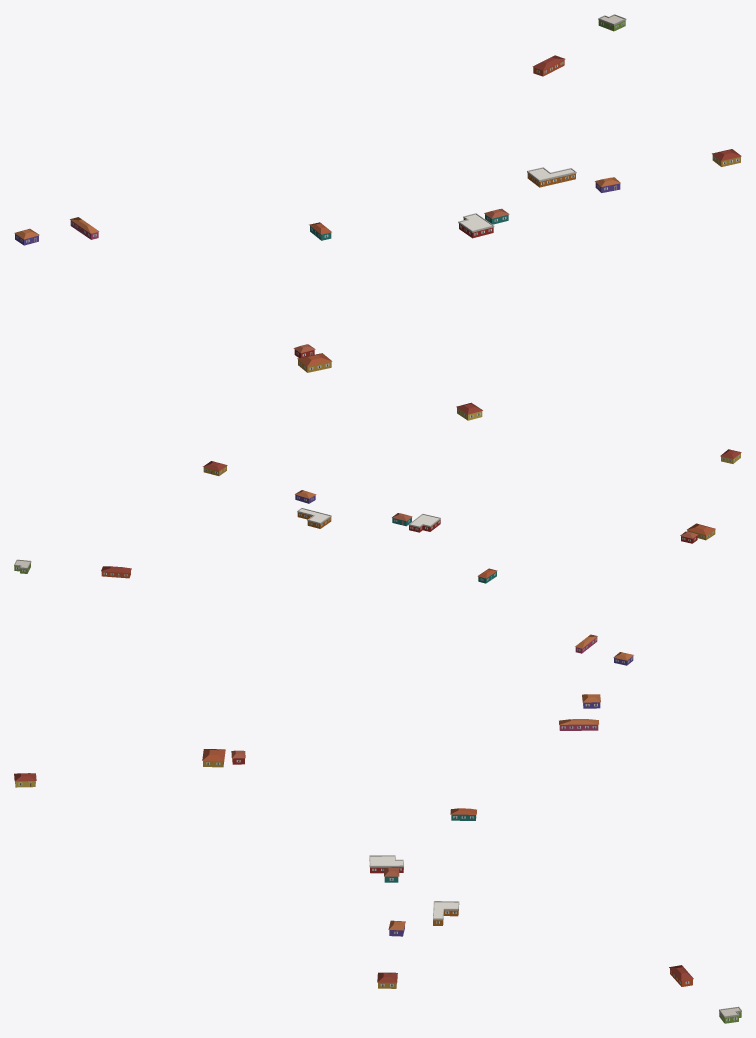
File: msb_oranjestad_m13_m3.glb
3 views of the same model, one above another, from view 1: azimuth 30°, elevation 25°; view 2: azimuth 150°, elevation 25°; view 3: azimuth 270°, elevation 25° (orthographic). The views are drawn at different scales.
Parts seen in each view (by area): view 1: msb_oranjestad_m13_m3_lod0; view 2: msb_oranjestad_m13_m3_lod0; view 3: msb_oranjestad_m13_m3_lod0.
Boxes of the visible parts, box(x1,y1,x2,y2) form: msb_oranjestad_m13_m3_lod0: box(14, 14, 741, 420); msb_oranjestad_m13_m3_lod0: box(14, 449, 741, 665); msb_oranjestad_m13_m3_lod0: box(14, 694, 741, 1023).
Size of what is drawn, in the model's own units: 379 by 14.97 by 357.
3 materials, 1 textured.
